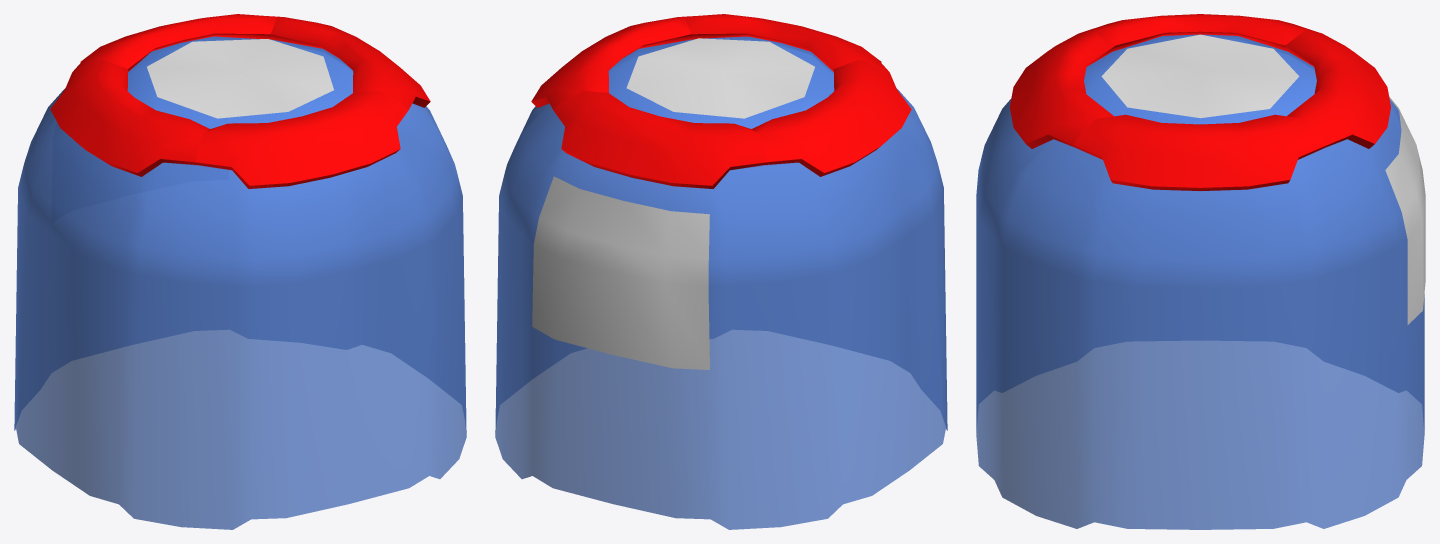
File: obj_characterobject_haybotpackage_top.fbx
The picture shows the model from 3 angles, left to right: view 1: azimuth 30°, elevation 25°; view 2: azimuth 150°, elevation 25°; view 3: azimuth 270°, elevation 25°; orthographic projection. The views are drawn at different scales.
Parts seen in each view (by area): view 1: obj_characterobject_haybot_top; view 2: obj_characterobject_haybot_top; view 3: obj_characterobject_haybot_top.
Boxes of the visible parts, box(x1,y1,x2,y2) form: obj_characterobject_haybot_top: box(14, 14, 466, 529); obj_characterobject_haybot_top: box(495, 14, 947, 529); obj_characterobject_haybot_top: box(976, 14, 1425, 529).
Bounding box in the file's own units: 8.66 × 8 × 8.68.
